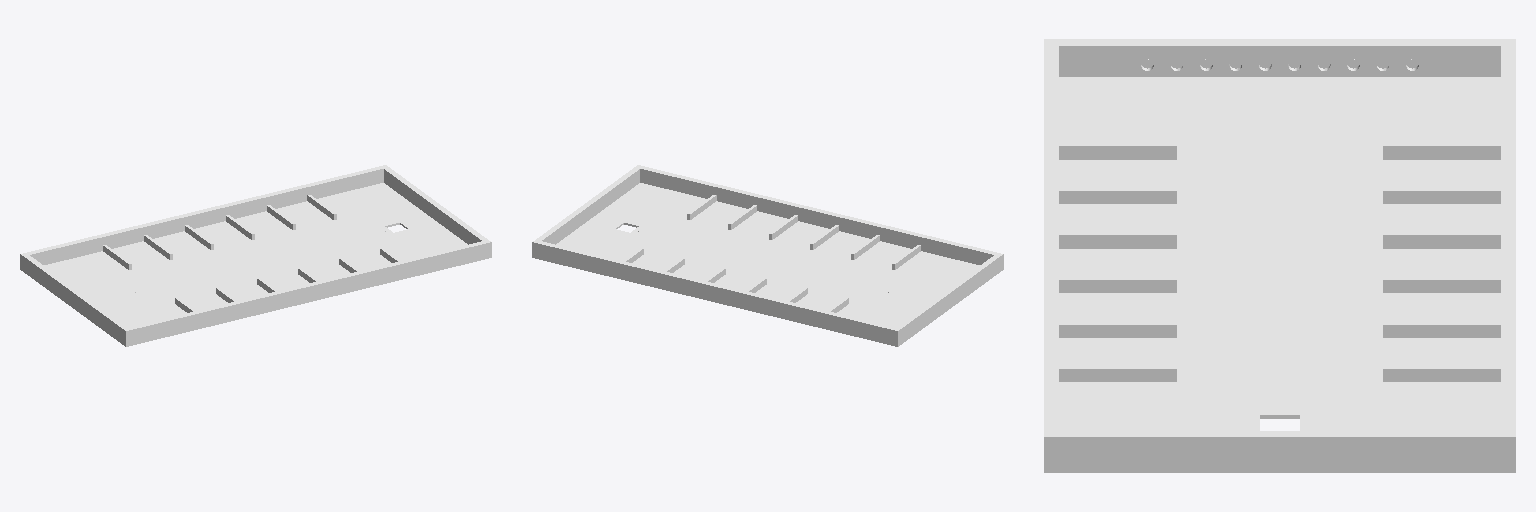
URDF robot description (field.urdf):
<?xml version="1.0" ?>
<robot name="field.urdf">
    <link name="field_link">
        <!-- Make it have infinite mass. It shouldn't move -->
        <inertial>
            <mass value="1e10"/>
            <inertia ixx="1e10" ixy="1e10" ixz="1e10" iyy="1e10" iyz="1e10" izz="1e10"/>
        </inertial>

        <!-- Import the visual from a textured .obj -->
        <visual>
            <!-- Center on the origin -->
            <origin rpy="0 0 0" xyz="0 0 0"/>
            
            <geometry>
                <mesh filename="field.obj" scale="1 1 1"/>
            </geometry>

            <!-- For some reason textures don't load without this -->
            <material name="white">
                <color rgba="1 1 1 1"/>
            </material>
        </visual>

        <!-- Back half of the base -->
        <collision>
            <origin rpy="0 0 0" xyz="-0.1651 0 0.005953"/>
            <geometry>
                <box size="2.1082 1.2192 0.01191"/>
            </geometry>
        </collision>

        <!-- Sides of the base -->
        <collision>
            <origin rpy="0 0 0" xyz="0.9398 0.3302 0.005953"/>
            <geometry>
                <box size="0.1016 0.5588 0.01191"/>
            </geometry>
        </collision>
        <collision>
            <origin rpy="0 0 0" xyz="0.9398 -0.3302 0.005953"/>
            <geometry>
                <box size="0.1016 0.5588 0.01191"/>
            </geometry>
        </collision>

        <!-- Front of the base -->
        <collision>
            <origin rpy="0 0 0" xyz="1.1049 0 0.005953"/>
            <geometry>
                <box size="0.2286 1.2192 0.01191"/>
            </geometry>
        </collision>

        <!-- Front and back walls -->
        <collision>
            <origin rpy="0 0 0" xyz="1.20015 0 0.05636"/>
            <geometry>
                <box size="0.0381 1.2192 0.0889"/>
            </geometry>
        </collision>
        <collision>
            <origin rpy="0 0 0" xyz="-1.20015 0 0.05636"/>
            <geometry>
                <box size="0.0381 1.2192 0.0889"/>
            </geometry>
        </collision>

        <!-- Side walls -->
        <collision>
            <origin rpy="0 0 0" xyz="0 0.59055 0.05636"/>
            <geometry>
                <box size="2.4384 0.0381 0.0889"/>
            </geometry>
        </collision>
        <collision>
            <origin rpy="0 0 0" xyz="0 -0.59055 0.05636"/>
            <geometry>
                <box size="2.4384 0.0381 0.0889"/>
            </geometry>
        </collision>

        <!-- Front left bins-->
        <collision>
            <origin rpy="0 0 0" xyz="0.682625 0.4191 0.03096"/>
            <geometry>
                <box size="0.01905 0.3048 0.0381"/>
            </geometry>
        </collision>
        <collision>
            <origin rpy="0 0 0" xyz="0.409575 0.4191 0.03096"/>
            <geometry>
                <box size="0.01905 0.3048 0.0381"/>
            </geometry>
        </collision>
        <collision>
            <origin rpy="0 0 0" xyz="0.136525 0.4191 0.03096"/>
            <geometry>
                <box size="0.01905 0.3048 0.0381"/>
            </geometry>
        </collision>

        <!-- Back left bins -->
        <collision>
            <origin rpy="0 0 0" xyz="-0.682625 0.4191 0.03096"/>
            <geometry>
                <box size="0.01905 0.3048 0.0381"/>
            </geometry>
        </collision>
        <collision>
            <origin rpy="0 0 0" xyz="-0.409575 0.4191 0.03096"/>
            <geometry>
                <box size="0.01905 0.3048 0.0381"/>
            </geometry>
        </collision>
        <collision>
            <origin rpy="0 0 0" xyz="-0.136525 0.4191 0.03096"/>
            <geometry>
                <box size="0.01905 0.3048 0.0381"/>
            </geometry>
        </collision>

        <!-- Front right bins-->
        <collision>
            <origin rpy="0 0 0" xyz="0.682625 -0.4191 0.03096"/>
            <geometry>
                <box size="0.01905 0.3048 0.0381"/>
            </geometry>
        </collision>
        <collision>
            <origin rpy="0 0 0" xyz="0.409575 -0.4191 0.03096"/>
            <geometry>
                <box size="0.01905 0.3048 0.0381"/>
            </geometry>
        </collision>
        <collision>
            <origin rpy="0 0 0" xyz="0.136525 -0.4191 0.03096"/>
            <geometry>
                <box size="0.01905 0.3048 0.0381"/>
            </geometry>
        </collision>

        <!-- Back right bins -->
        <collision>
            <origin rpy="0 0 0" xyz="-0.682625 -0.4191 0.03096"/>
            <geometry>
                <box size="0.01905 0.3048 0.0381"/>
            </geometry>
        </collision>
        <collision>
            <origin rpy="0 0 0" xyz="-0.409575 -0.4191 0.03096"/>
            <geometry>
                <box size="0.01905 0.3048 0.0381"/>
            </geometry>
        </collision>
        <collision>
            <origin rpy="0 0 0" xyz="-0.136525 -0.4191 0.03096"/>
            <geometry>
                <box size="0.01905 0.3048 0.0381"/>
            </geometry>
        </collision>
    </link>
</robot>

--- Render facts (derived) ---
3 views of the same robot in one strip: view 1: azimuth 30°, elevation 25°; view 2: azimuth 150°, elevation 25°; view 3: azimuth 270°, elevation 25° (orthographic).
Robot: field.urdf — 1 links, 0 joints (none); root link field_link; default pose: every joint at zero.
Visible links, largest first — view 1: field_link; view 2: field_link; view 3: field_link.
Boxes of the visible links, <box> form: field_link: <box>20,165,491,346</box>; field_link: <box>532,165,1003,346</box>; field_link: <box>1044,39,1515,472</box>.
Size in the robot's own frame: 2.44 by 1.22 by 0.1008 metres.
1 mesh visuals loaded from 1 distinct referenced files (1 OBJ).